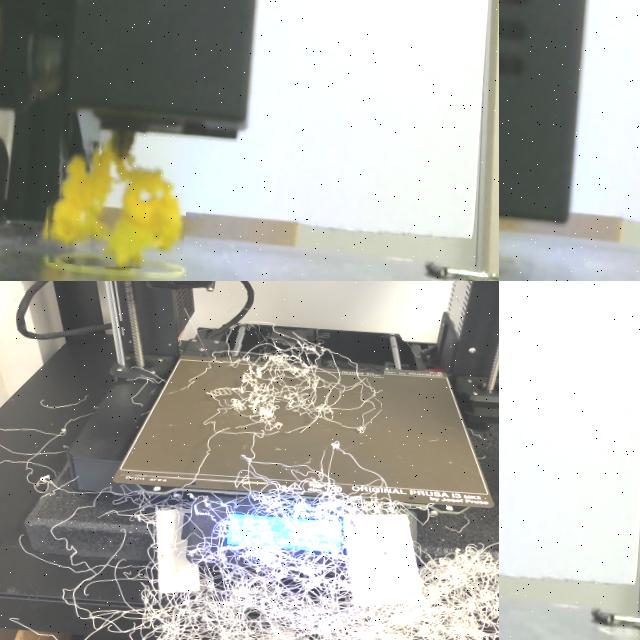spaghetti: (21, 435, 499, 640), (38, 138, 190, 272), (221, 328, 383, 432)
